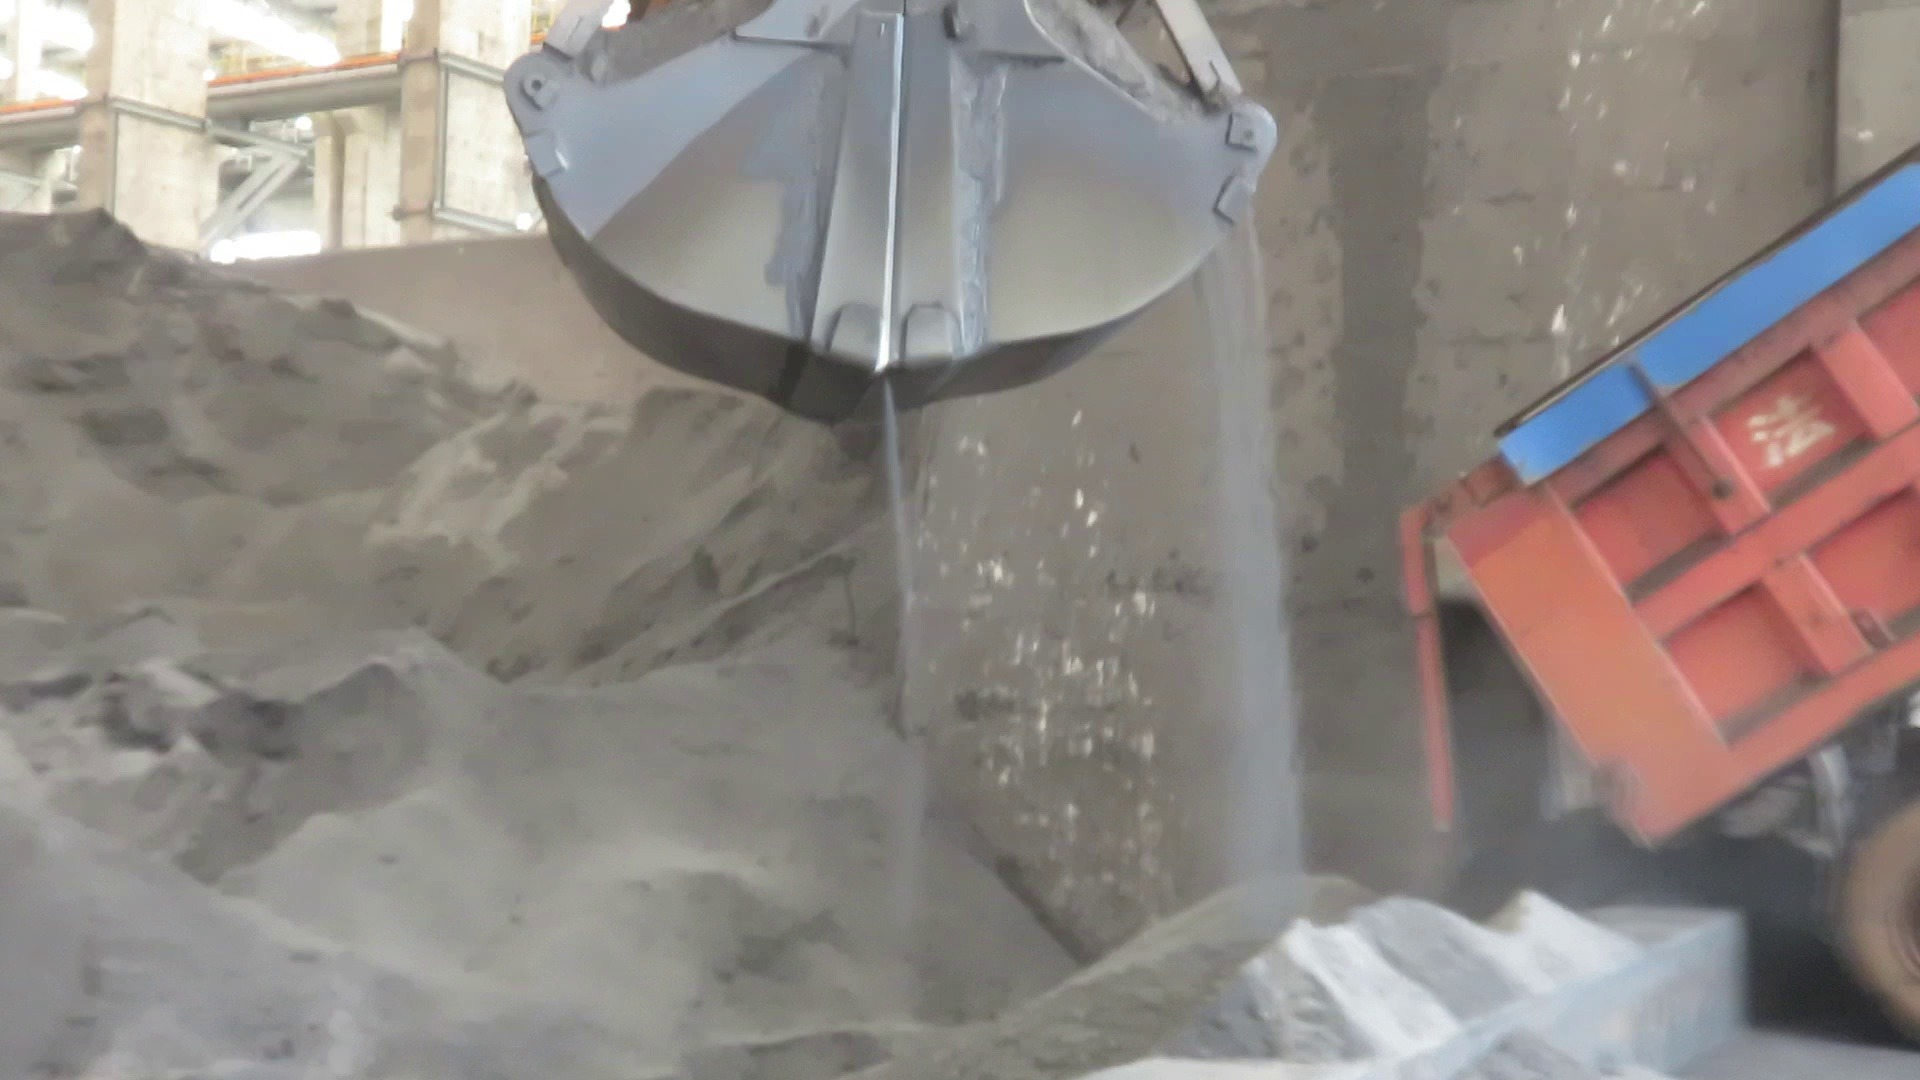grab: (498, 0, 1287, 429)
